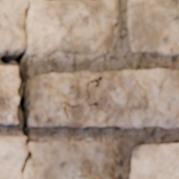brick: (29, 69, 178, 127), (128, 0, 178, 56), (130, 144, 178, 178), (0, 66, 19, 124)
broken_brick: (0, 0, 118, 55), (0, 136, 117, 178)
crack: (0, 2, 34, 176)
